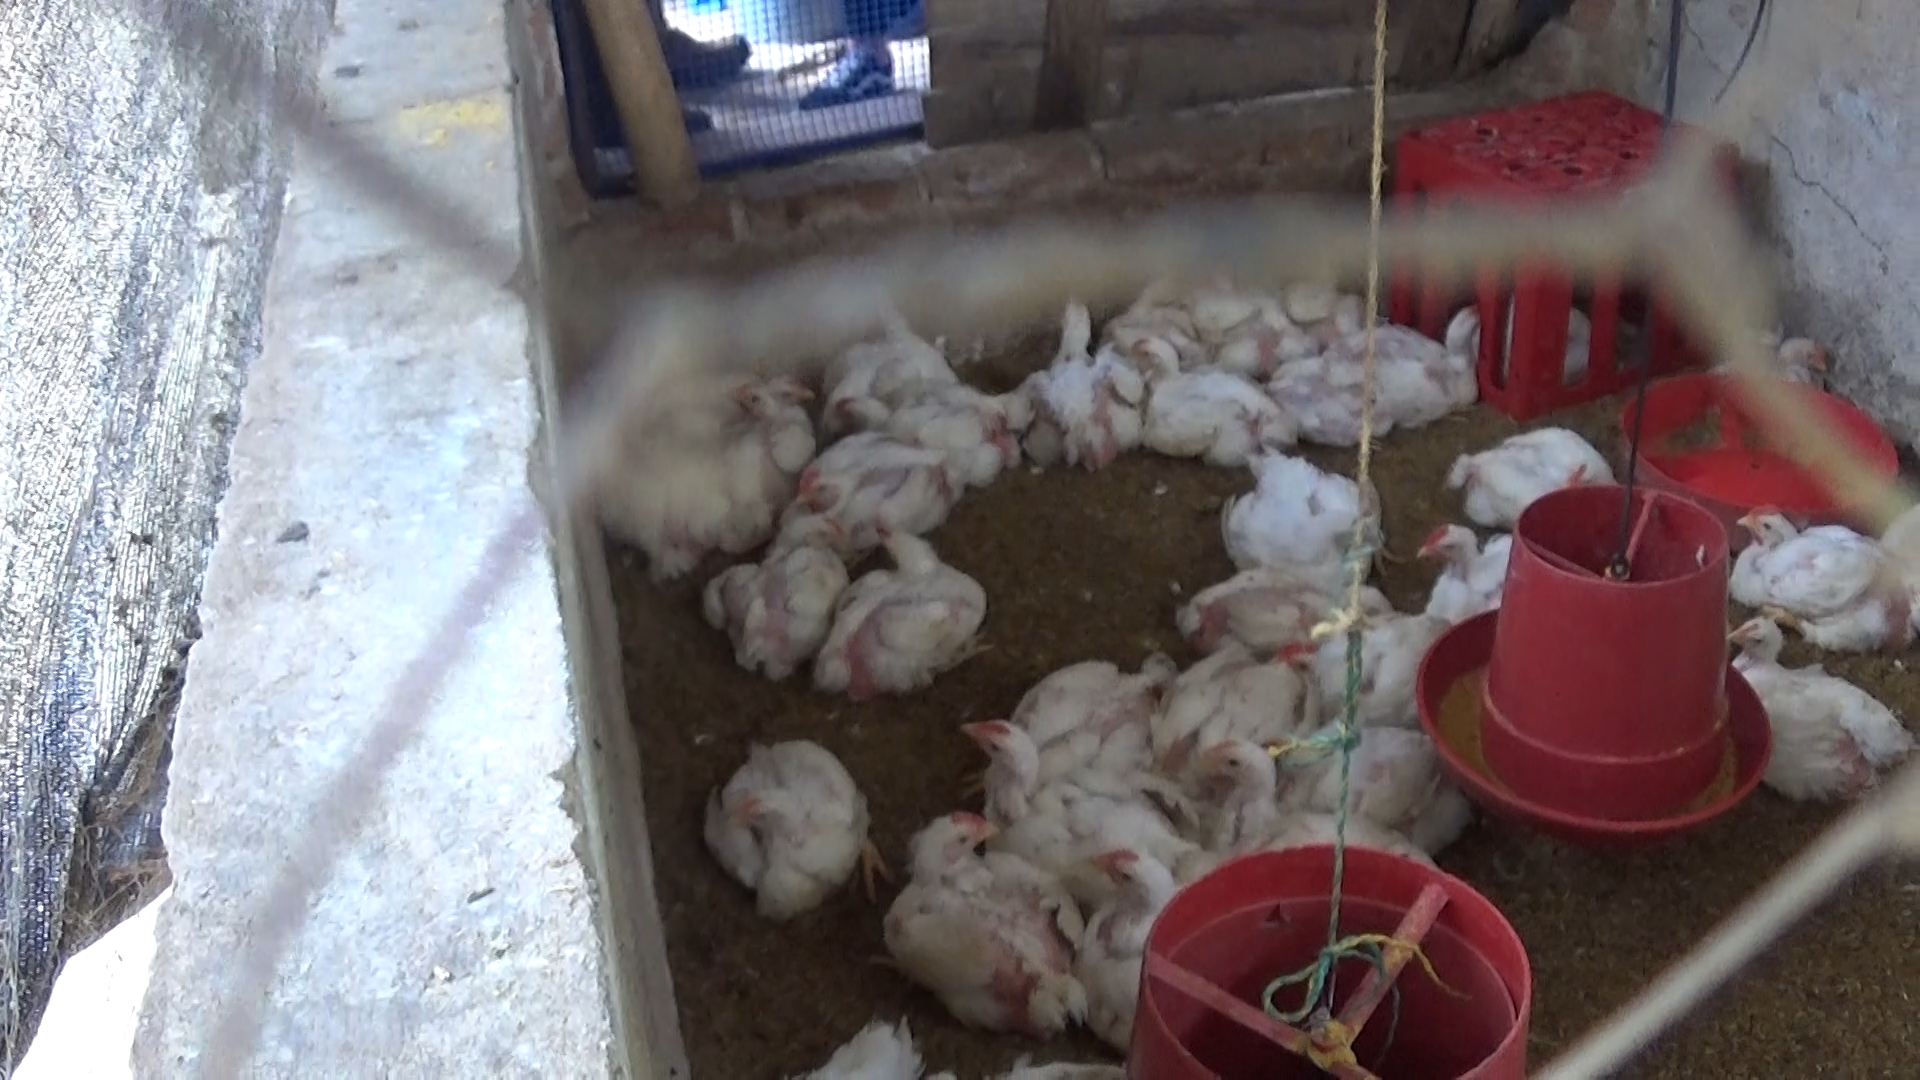Pollos: (866, 803, 1085, 1033), (1705, 603, 1899, 794), (702, 728, 887, 927), (1187, 729, 1425, 880), (822, 522, 1011, 700), (1069, 824, 1205, 1058), (1131, 636, 1336, 773), (1724, 498, 1903, 646), (1102, 330, 1280, 462), (1018, 282, 1145, 463), (716, 514, 855, 669), (1229, 444, 1400, 567), (789, 431, 964, 547), (952, 713, 1102, 847), (1331, 299, 1509, 411), (1437, 418, 1615, 512), (1174, 556, 1374, 638), (1406, 518, 1538, 630), (916, 357, 1033, 475), (667, 368, 822, 440), (1738, 322, 1854, 398), (824, 377, 938, 435), (721, 380, 783, 479)
